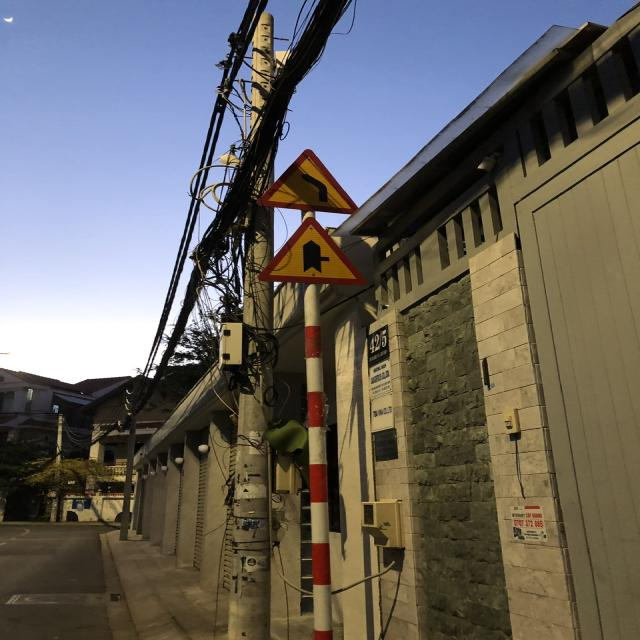Bien bao cho ngoat nguy hiem: (252, 139, 367, 216)
Bien bao giao nhau voi duong khong uu tien: (252, 215, 367, 290)
